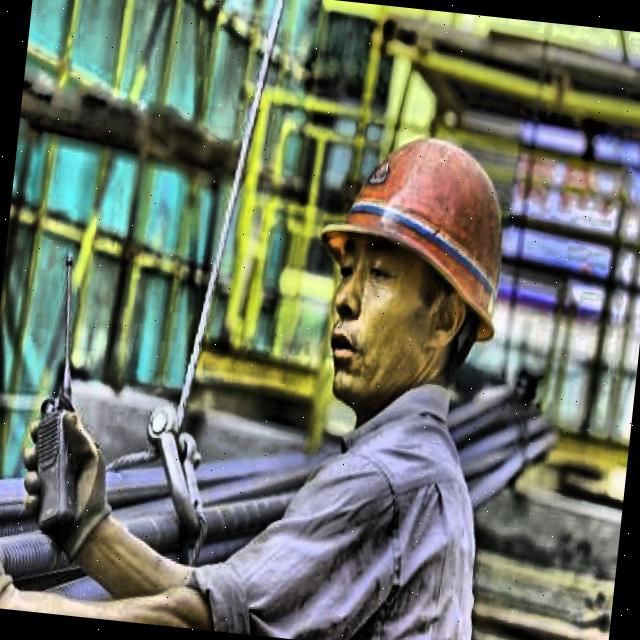helmet: (282, 89, 540, 444)
